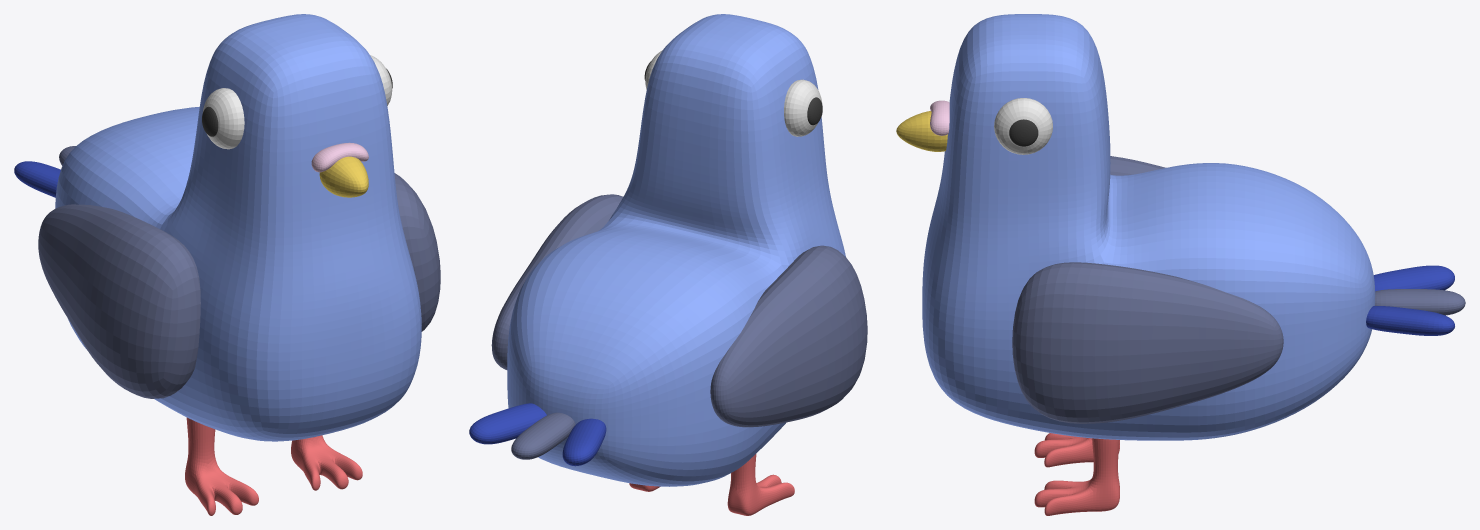
The model's file is pigeonscolor.fbx.
The picture shows the model from 3 angles, left to right: view 1: azimuth 30°, elevation 25°; view 2: azimuth 150°, elevation 25°; view 3: azimuth 270°, elevation 25°; orthographic projection. The views are drawn at different scales.
Visible parts, largest first — view 1: Body, wing, feet, eyeball, Beak, Cube.001, WhiteThing; view 2: Body, wing, Cube.001, feet, Cube, eyeball; view 3: Body, wing, feet, Cube.001, eyeball, Cube, Beak, WhiteThing, pupuil.
Part boxes in pixels (box(x1,y1,x2,y2)): Body: box(55, 14, 421, 441); wing: box(38, 173, 440, 398); feet: box(185, 417, 362, 515); eyeball: box(203, 55, 392, 149); Beak: box(319, 156, 368, 197); Cube.001: box(14, 161, 60, 197); WhiteThing: box(311, 142, 368, 172); Body: box(507, 14, 845, 486); wing: box(491, 194, 867, 427); Cube.001: box(469, 403, 606, 466); feet: box(629, 454, 794, 515); Cube: box(511, 412, 575, 459); eyeball: box(645, 50, 822, 136); Body: box(922, 14, 1375, 440); wing: box(1012, 156, 1283, 423); feet: box(1034, 433, 1119, 515); Cube.001: box(1366, 265, 1454, 335); eyeball: box(994, 98, 1052, 154); Cube: box(1374, 289, 1465, 315); Beak: box(896, 111, 947, 151); WhiteThing: box(930, 100, 949, 135); pupuil: box(1009, 119, 1038, 146).
Size of the model in its own units: 1456 by 2071 by 2346.
